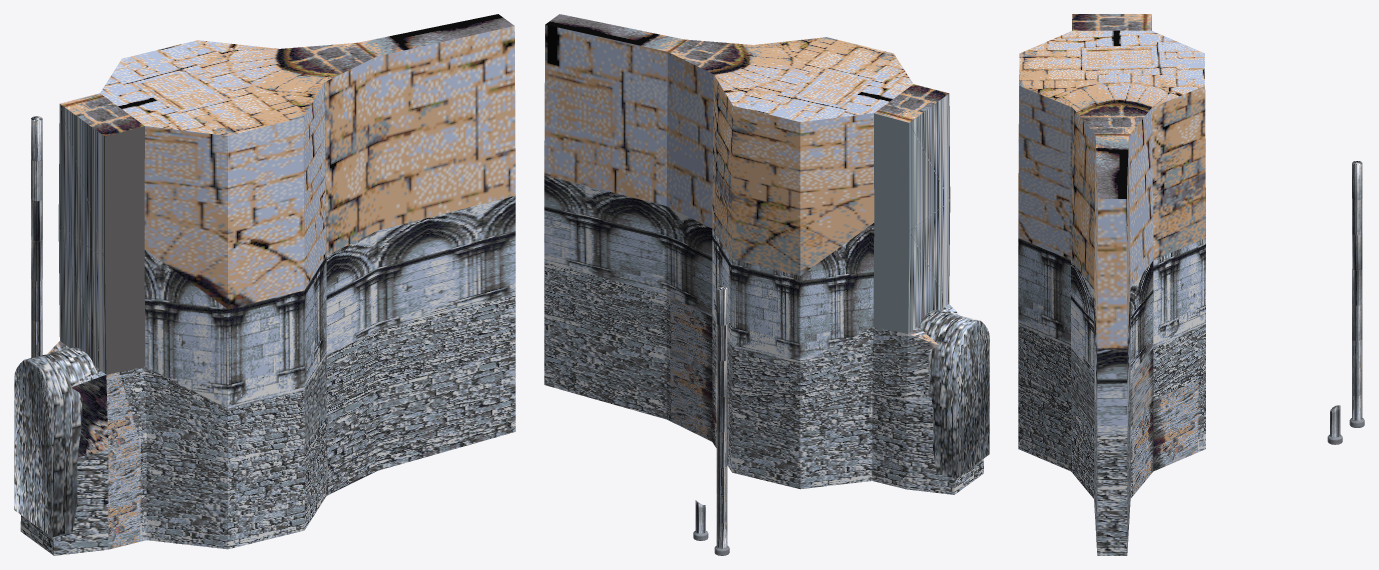
Rendered from IGLESIA ASSETS.fbx.
3 views of the same model, side by side, from view 1: azimuth 30°, elevation 25°; view 2: azimuth 150°, elevation 25°; view 3: azimuth 270°, elevation 25° (orthographic). The views are drawn at different scales.
Visible parts, largest first — view 1: Paredes, Cube, Columna; view 2: Paredes, Cube, Columna; view 3: Paredes, Columna, Columna small.
Boxes of the visible parts, left/top/right/bottom form: Paredes: left=20, top=14, right=515, bottom=555; Cube: left=14, top=347, right=93, bottom=537; Columna: left=31, top=116, right=42, bottom=357; Paredes: left=544, top=14, right=983, bottom=494; Cube: left=918, top=310, right=989, bottom=478; Columna: left=714, top=286, right=729, bottom=555; Paredes: left=1018, top=14, right=1205, bottom=555; Columna: left=1349, top=161, right=1364, bottom=427; Columna small: left=1327, top=405, right=1342, bottom=444.
Bounding box in the file's own units: 1257 × 1074 × 905.
Materials: 4 (4 with a texture image).
